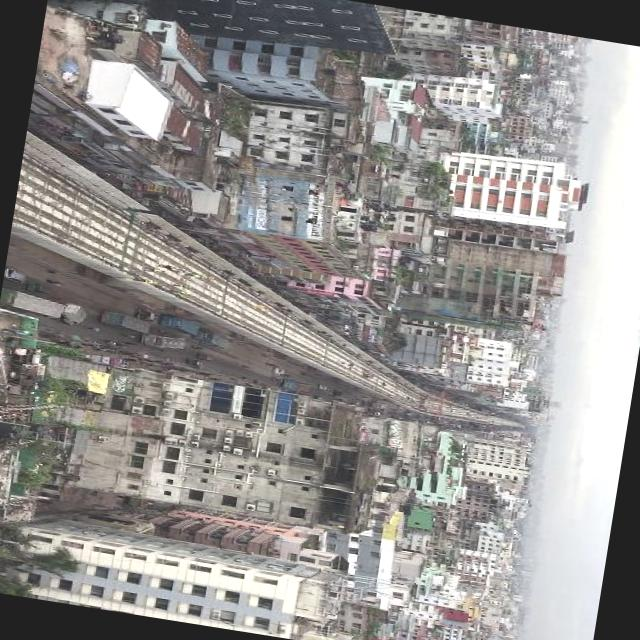bus: (0, 290, 66, 320), (101, 311, 151, 334), (160, 315, 201, 337), (142, 333, 187, 352), (190, 332, 230, 351), (282, 381, 311, 394), (372, 404, 388, 411)
car: (5, 270, 28, 284), (136, 312, 158, 324), (274, 369, 284, 376), (318, 386, 328, 392), (374, 412, 381, 417)
motorcycle: (28, 283, 54, 296), (186, 359, 202, 367), (150, 328, 166, 336), (198, 356, 215, 362), (192, 346, 204, 351), (273, 378, 283, 383), (244, 367, 253, 371), (266, 364, 274, 368)
truck: (60, 304, 88, 328)
